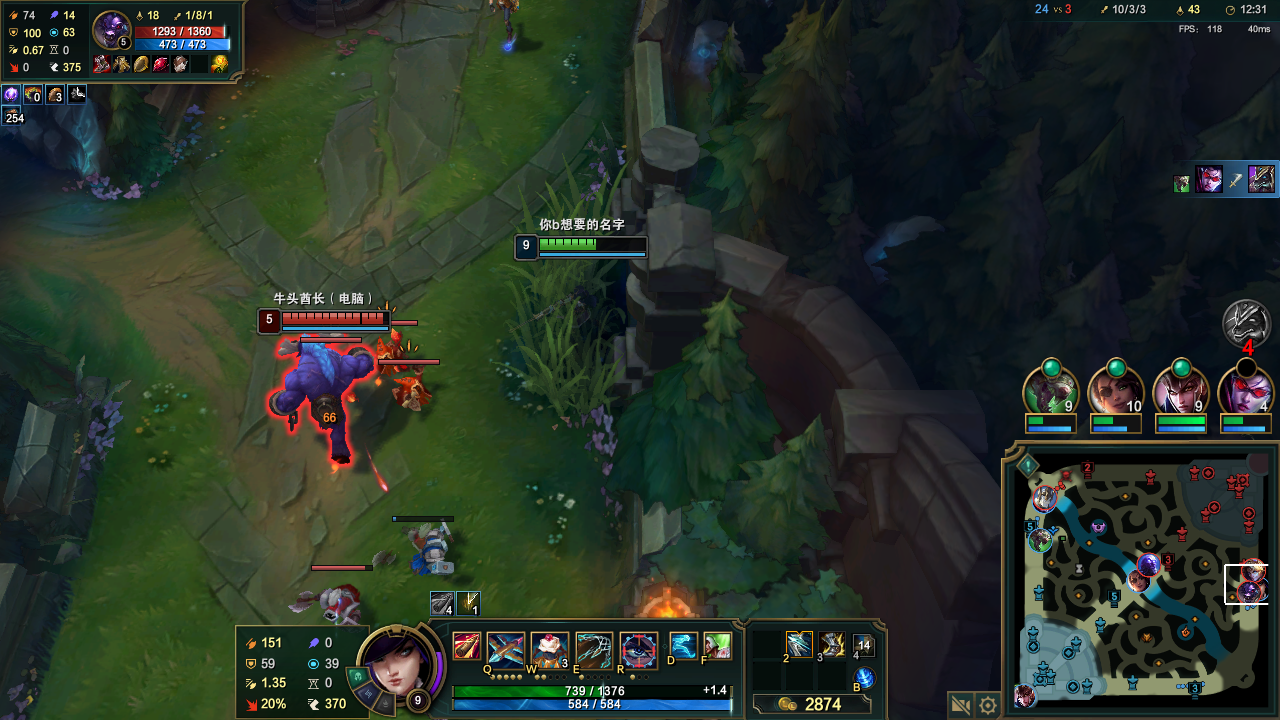DFXB: (390, 368, 433, 409), (315, 589, 362, 622), (374, 337, 401, 362)
DFYX: (268, 313, 390, 327)
KF: (788, 632, 813, 647)
WFXB: (409, 532, 464, 568)
